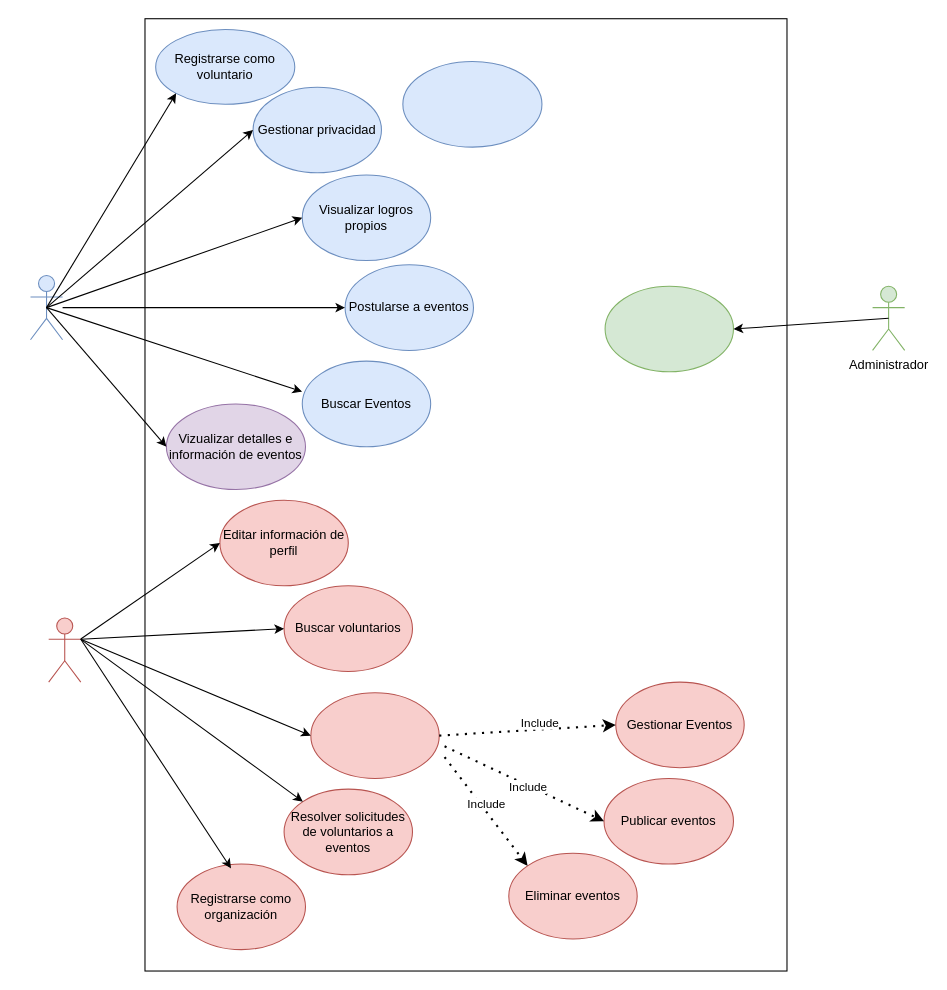
This 947x990 diagram has some shape labels left out. Here are the shapes that lost their labels. From the top down, the centre of each, then its label:
At [472,103]: "Buscar organizaciones".
At [46,307]: "Voluntario".
At [668,328]: "Validar registro de organización".
At [64,649]: "Organización".
At [374,735]: "Modificar eventos".
